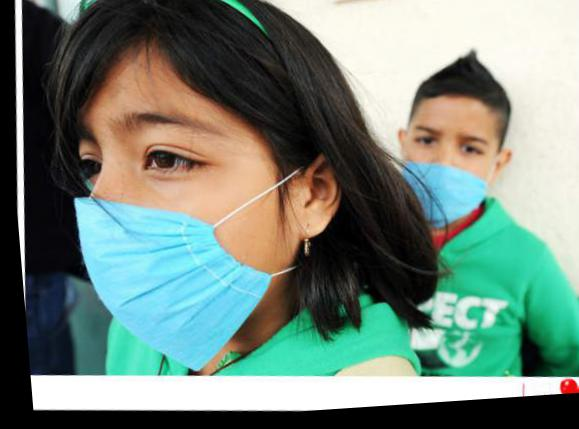OK: (51, 97, 328, 375)
WRONG: (387, 116, 500, 234)
